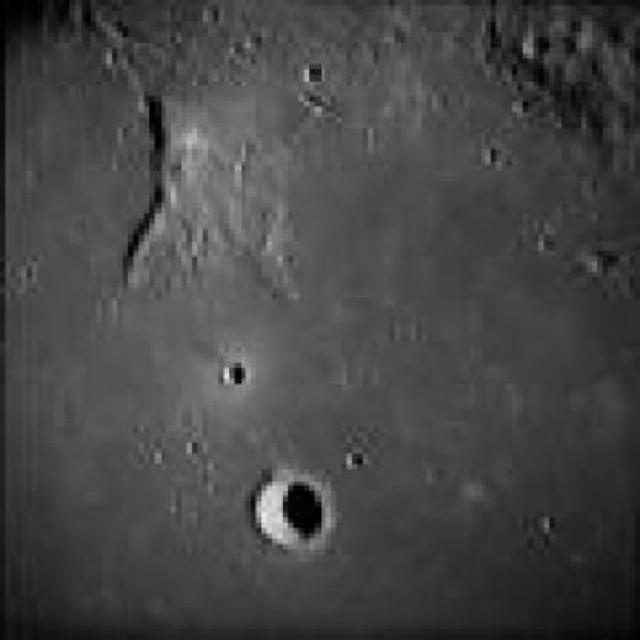crater: (256, 472, 330, 550)
